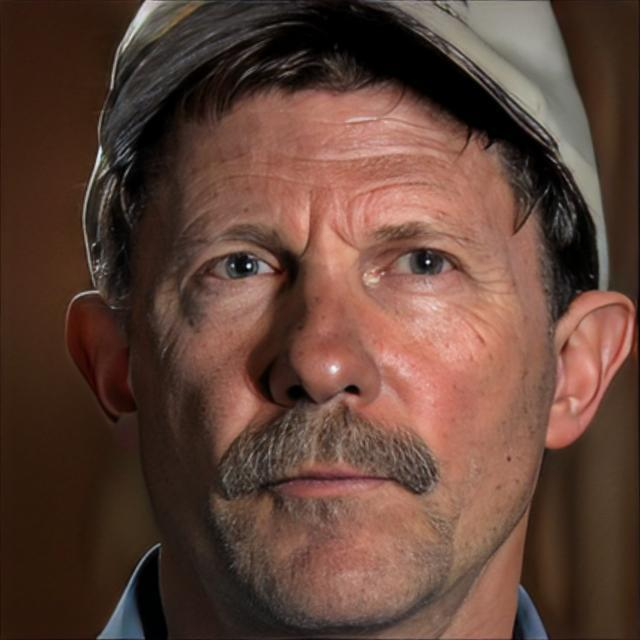neutral: (132, 80, 537, 626)
